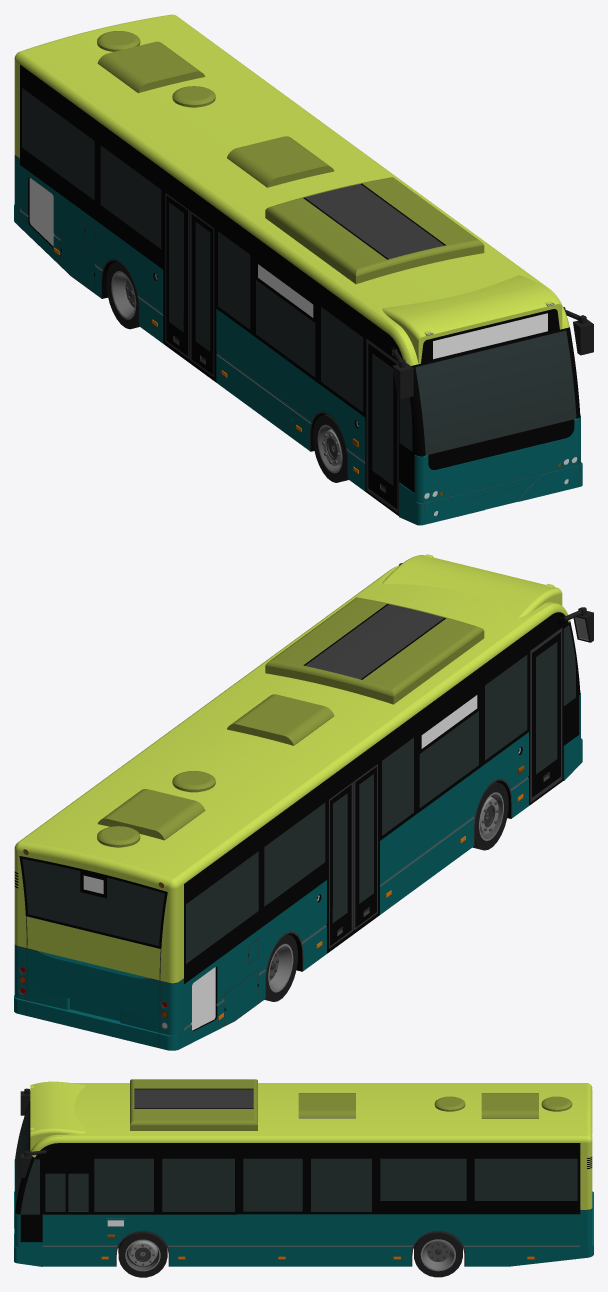
File: Bus.fbx
3 renders of one model, top to bottom at view 1: azimuth 30°, elevation 25°; view 2: azimuth 150°, elevation 25°; view 3: azimuth 270°, elevation 25°, orthographic. The views are drawn at different scales.
Parts seen in each view (by area): view 1: Layer0_001, Mirror_001, Mirror_003; view 2: Layer0_001, Mirror_001; view 3: Layer0_001, Mirror_003.
Part boxes in pixels (bbox=[...]): Layer0_001: bbox=[14, 14, 582, 525]; Mirror_001: bbox=[391, 347, 413, 399]; Mirror_003: bbox=[563, 307, 593, 355]; Layer0_001: bbox=[14, 554, 582, 1050]; Mirror_001: bbox=[558, 607, 593, 642]; Layer0_001: bbox=[14, 1079, 593, 1277]; Mirror_003: bbox=[20, 1149, 50, 1177].
Bounding box in the file's own units: 114 × 120 × 417.
